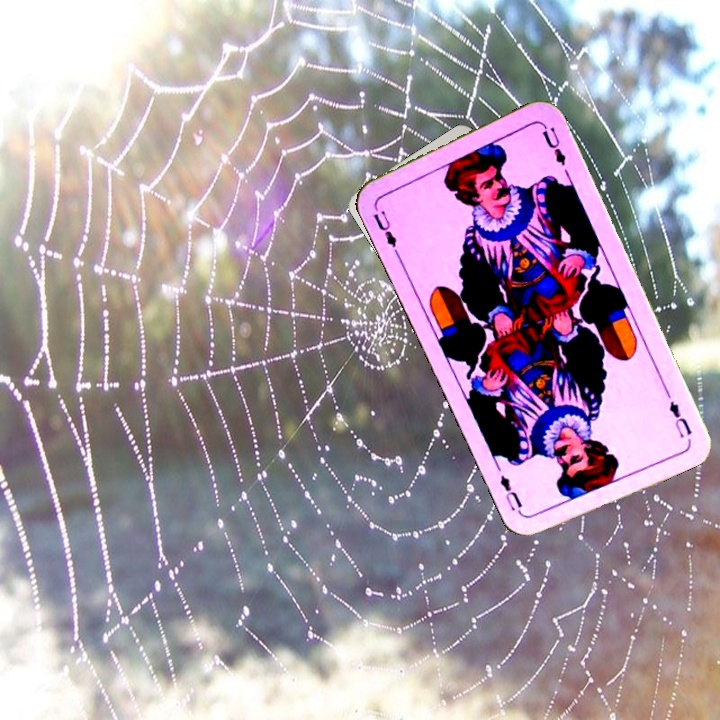EU: (369, 201, 401, 257), (665, 396, 695, 441)
